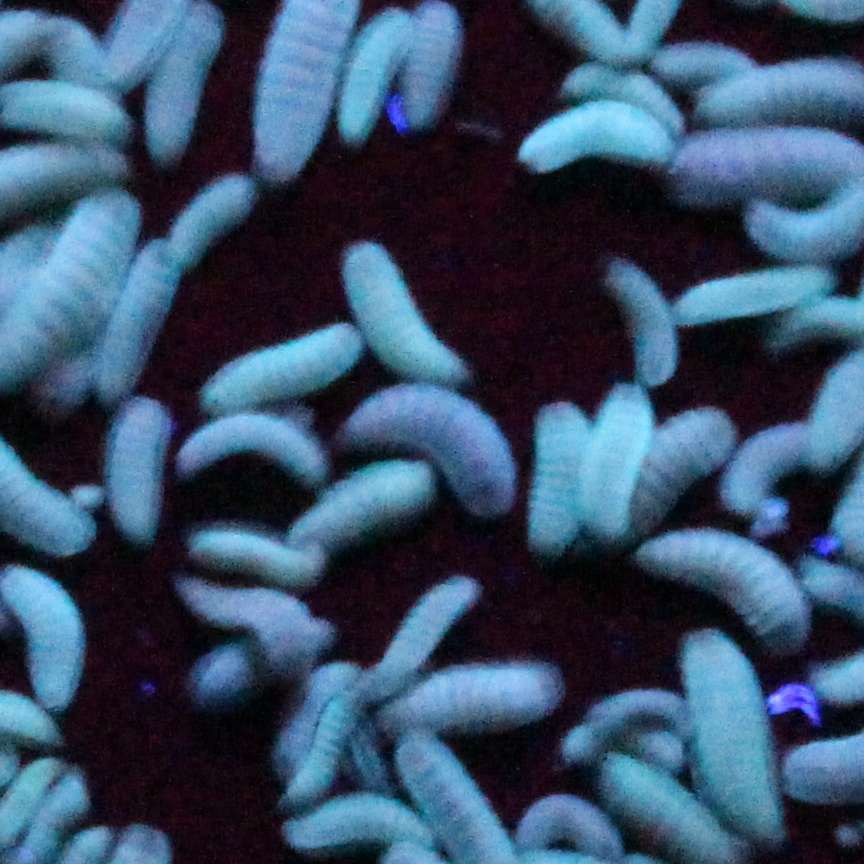larve: (334, 380, 520, 523), (674, 626, 788, 843), (5, 191, 134, 379), (334, 234, 482, 389), (625, 522, 812, 642), (350, 561, 473, 701), (92, 227, 185, 405), (384, 647, 564, 736), (290, 451, 444, 551), (136, 0, 232, 160), (91, 392, 182, 560), (511, 100, 682, 189), (664, 259, 842, 339), (594, 252, 688, 397), (206, 324, 364, 408), (177, 410, 333, 495), (173, 589, 325, 667), (157, 172, 277, 270), (528, 392, 590, 559), (650, 388, 729, 517), (181, 520, 334, 586), (259, 795, 433, 850), (583, 378, 643, 532), (729, 425, 809, 510), (518, 795, 618, 854)
